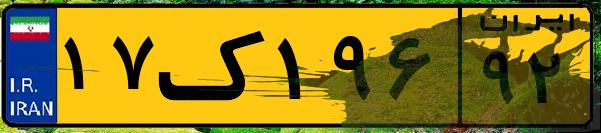1: (270, 28, 330, 110), (57, 26, 110, 100)
2: (525, 38, 570, 115)
6: (385, 28, 445, 110)
7: (110, 28, 158, 98)
9: (330, 28, 385, 110), (475, 38, 525, 113)
ک: (158, 12, 270, 120)
